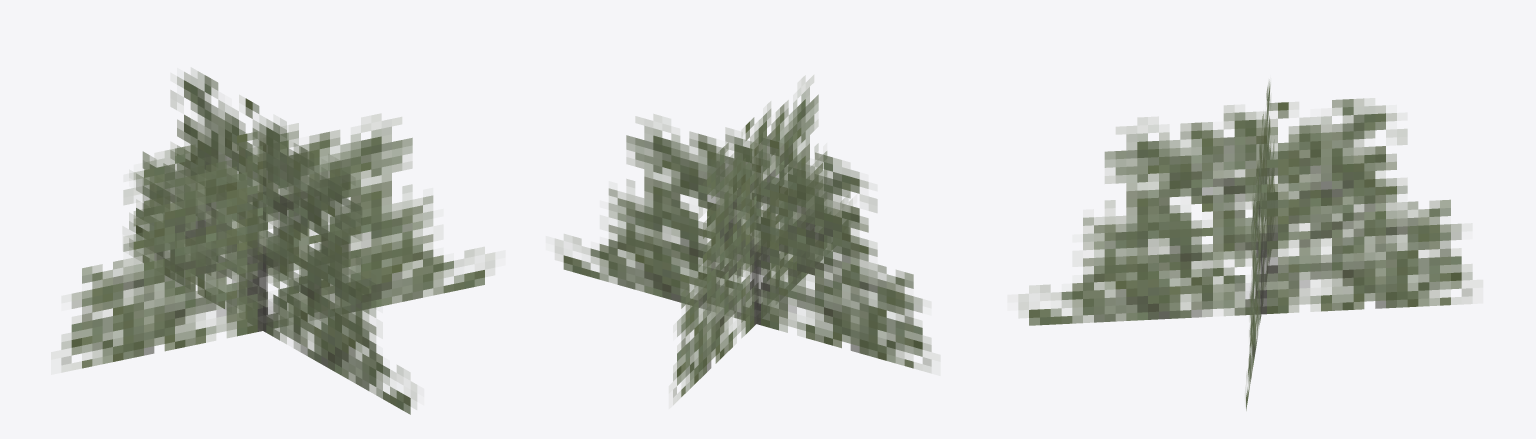
File: tree-shrub.020_lev3.glb
3 views of the same model, side by side, from view 1: azimuth 30°, elevation 25°; view 2: azimuth 150°, elevation 25°; view 3: azimuth 270°, elevation 25° (orthographic). The views are drawn at different scales.
Parts seen in each view (by area): view 1: tree-shrub.020_lev3; view 2: tree-shrub.020_lev3; view 3: tree-shrub.020_lev3.
Boxes of the visible parts, x1,y1,x2,y2 form: tree-shrub.020_lev3: [61, 68, 494, 414]; tree-shrub.020_lev3: [555, 75, 931, 404]; tree-shrub.020_lev3: [1018, 81, 1472, 410].
Size of the model in its own units: 5.43 by 2.41 by 5.4.
1 material, 1 textured.
